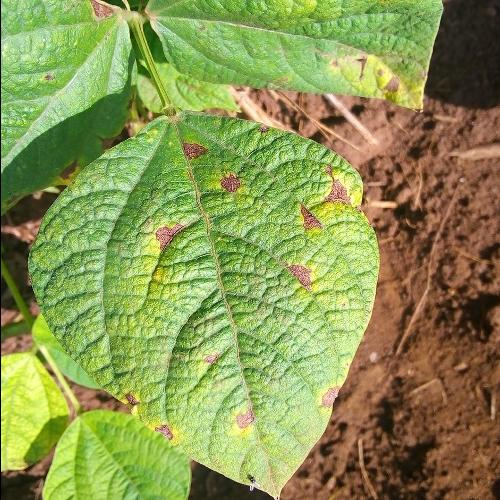hawar: (80, 122, 344, 474)
